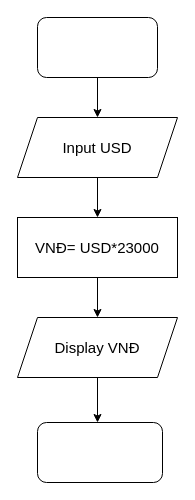
This 195x500 diagram has some shape labels left out. The shapes that lost their labels are listed below. From the top down, each one's centre as x and y in pixels, then its label:
At (x=97, y=47): "Begin".
At (x=99, y=452): "End".
